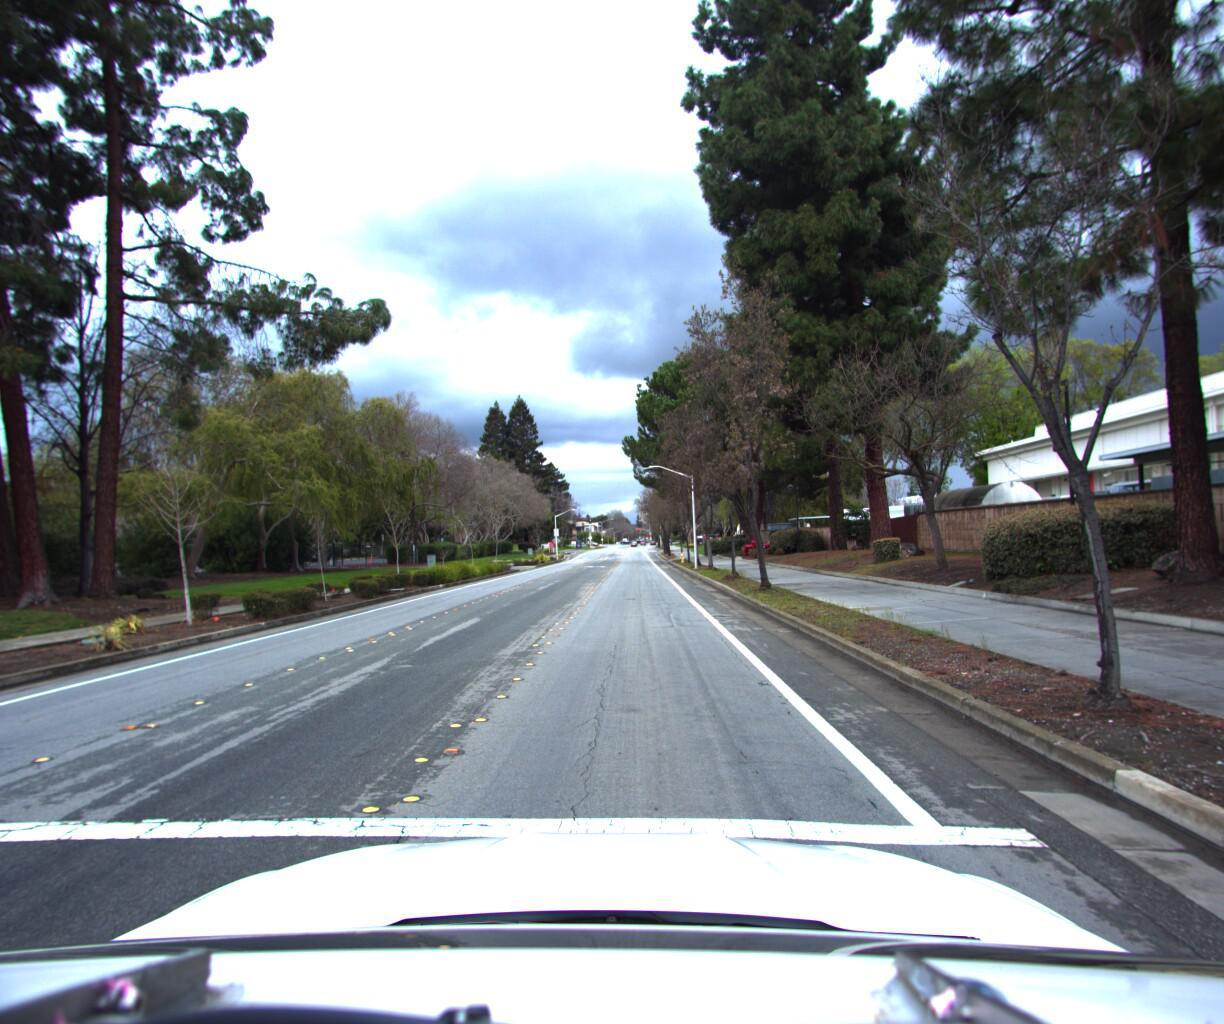truck: (821, 492, 1001, 550)
